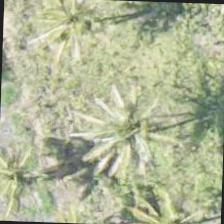Kelapa_Sawit: (83, 84, 176, 177), (29, 0, 122, 68), (0, 126, 64, 219)
